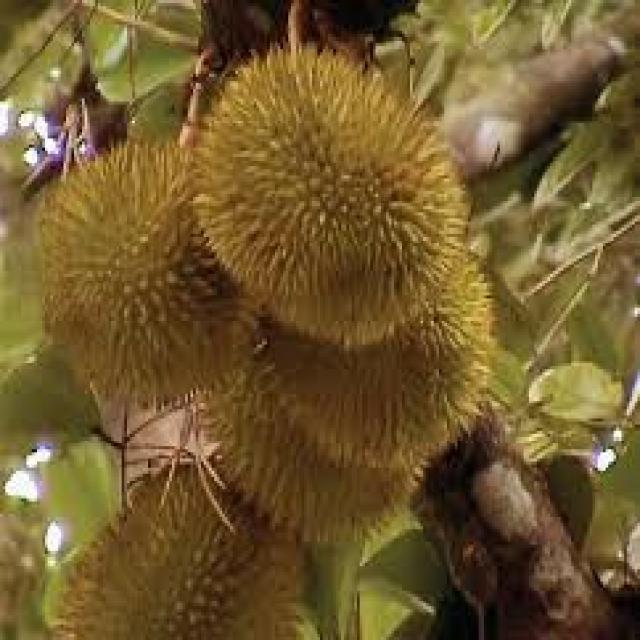mature: (195, 51, 465, 341), (40, 143, 255, 405)
